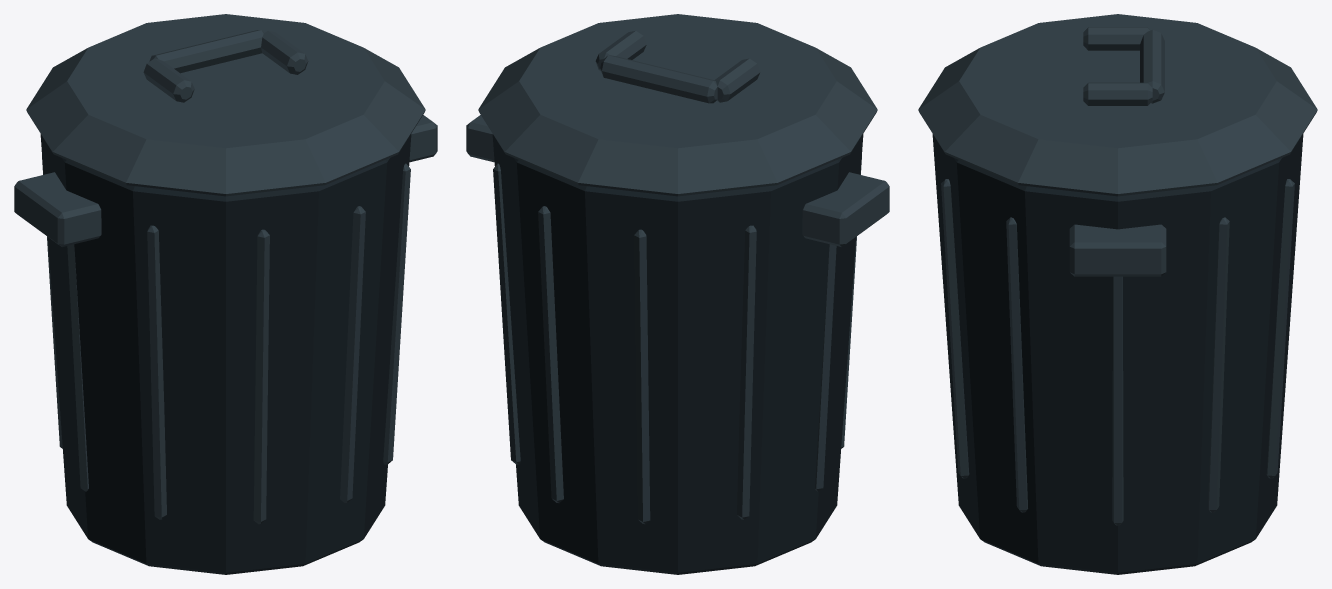
File: b04_round_household_trash_can.glb
3 views of the same model, side by side, from view 1: azimuth 30°, elevation 25°; view 2: azimuth 150°, elevation 25°; view 3: azimuth 270°, elevation 25° (orthographic).
Parts seen in each view (by area): view 1: b04_round_household_trash_can; view 2: b04_round_household_trash_can; view 3: b04_round_household_trash_can.
Boxes of the visible parts, bbox=[...] form: b04_round_household_trash_can: bbox=[14, 14, 437, 574]; b04_round_household_trash_can: bbox=[466, 14, 889, 574]; b04_round_household_trash_can: bbox=[918, 14, 1317, 574].
Size of the model in its own units: 0.635 by 0.726 by 0.5786.
